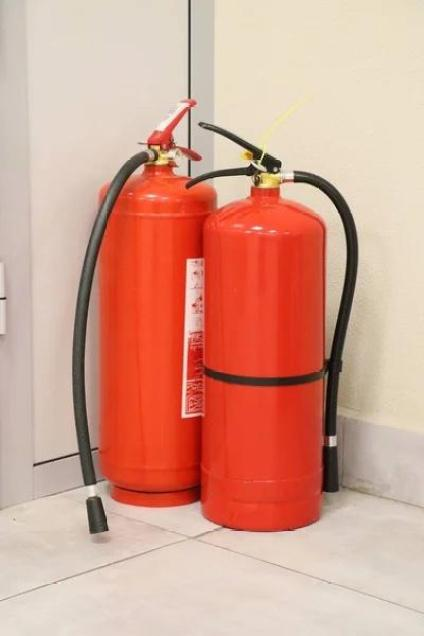APAR: (184, 122, 325, 532), (96, 98, 218, 506)
